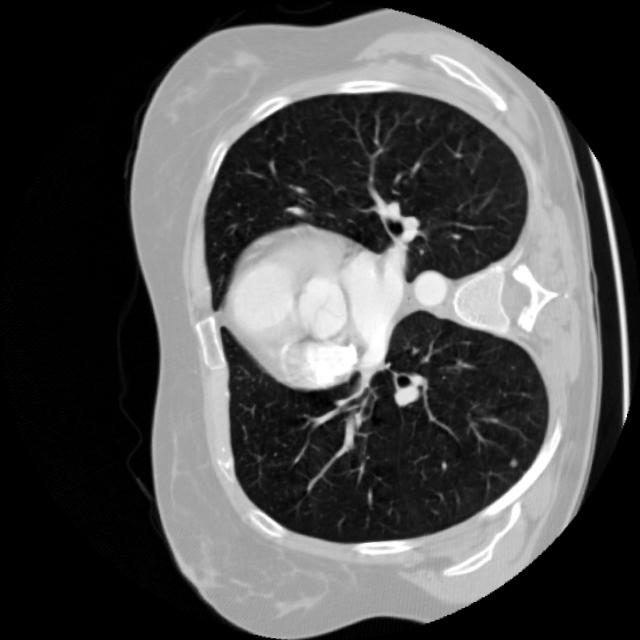nodule: (498, 449, 526, 476)
